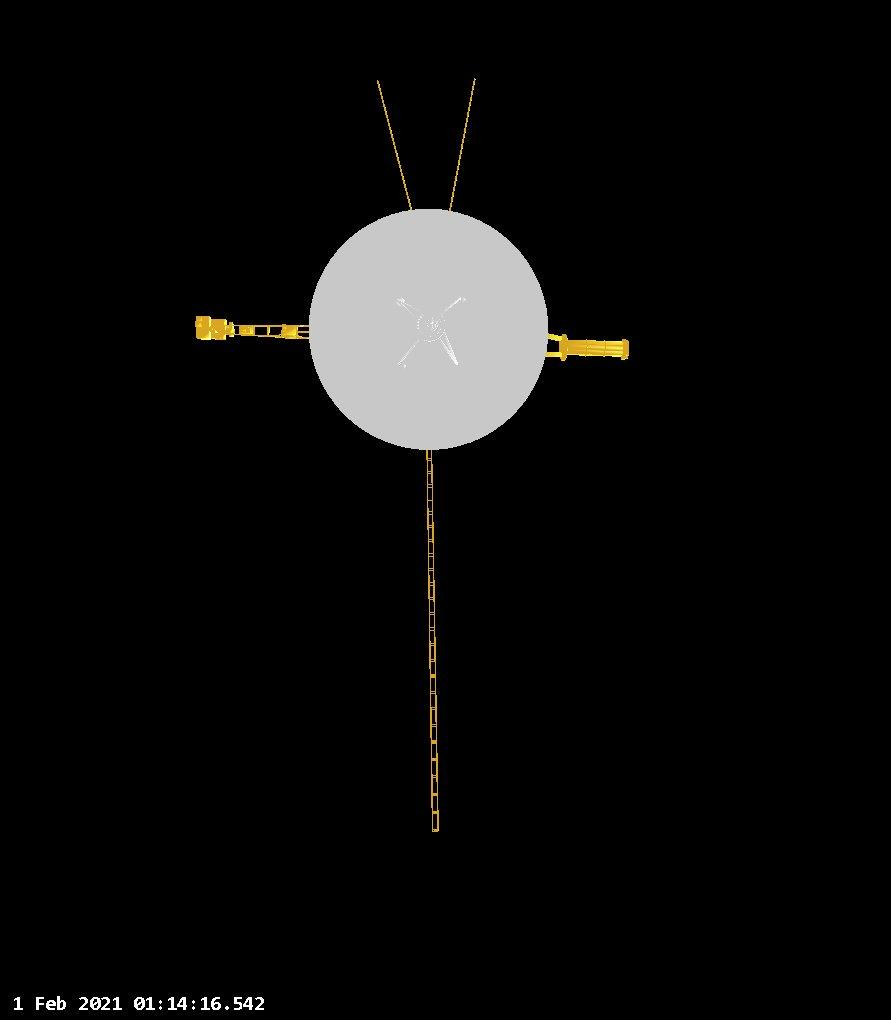antenna: (306, 205, 552, 454), (419, 445, 445, 836), (373, 75, 419, 211), (445, 72, 480, 215)
